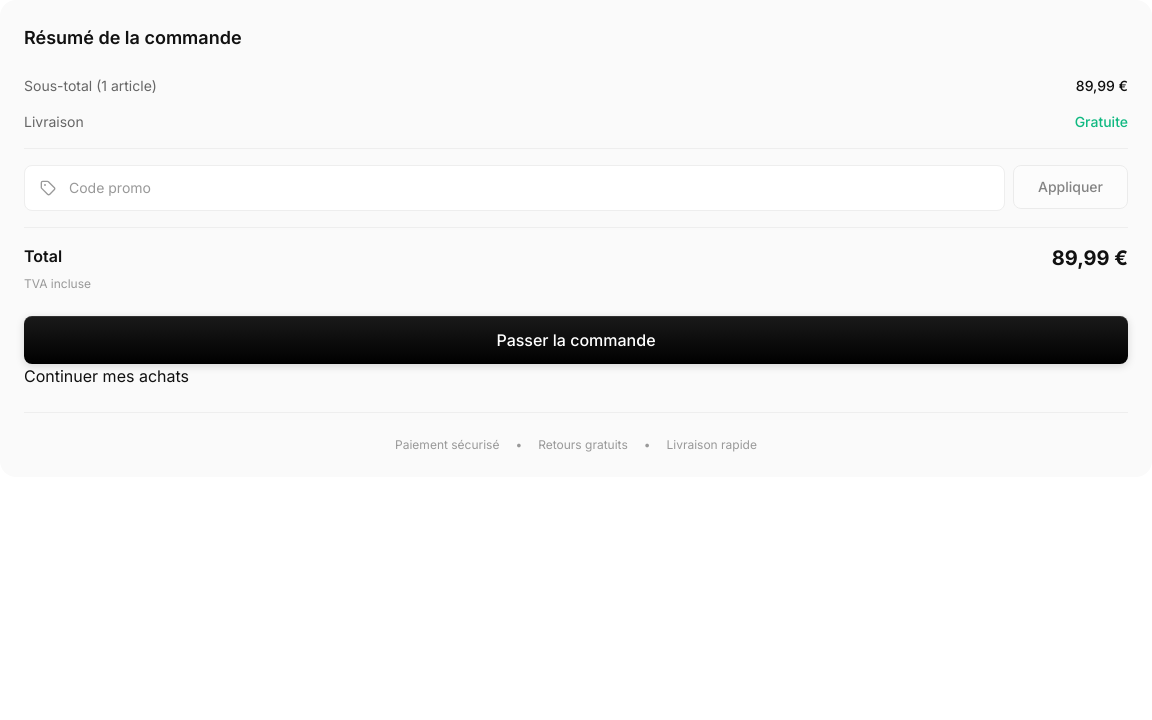
Test: CartSummary › Promo Code › should apply valid promo code
This screenshot has width=1152, height=720.
Type "BIENVENUE10" into the field with placeholder "Code promo". click: point(514, 188)
box: 24,165 -> 1005,211
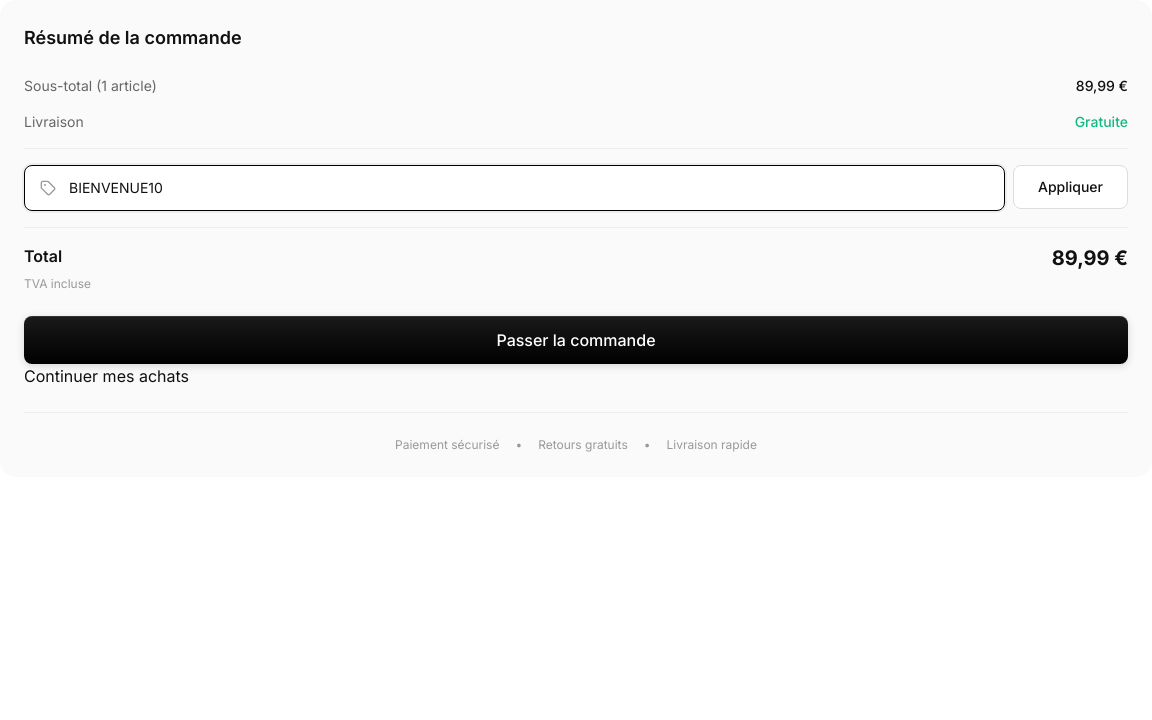
Click the button "Appliquer". click: point(1070, 187)
box: 1013,165 -> 1128,209
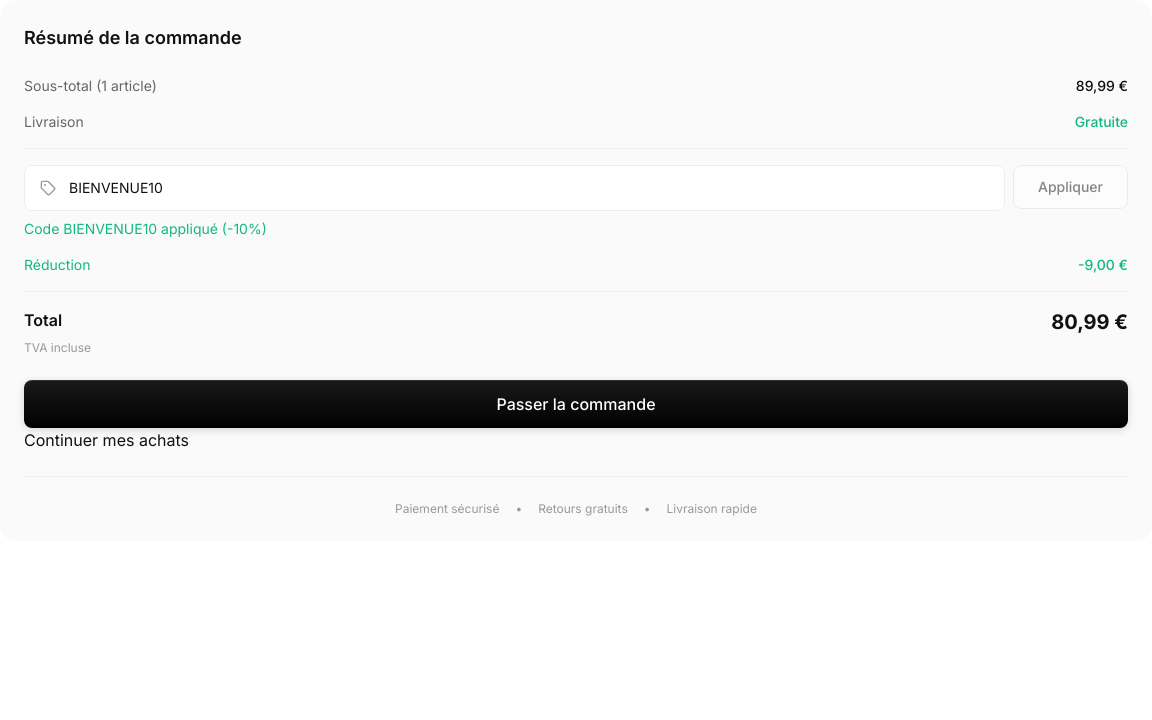
Result: the text "Code BIENVENUE10 appliqué (-10%)" is shown at 24,220 -> 267,237
